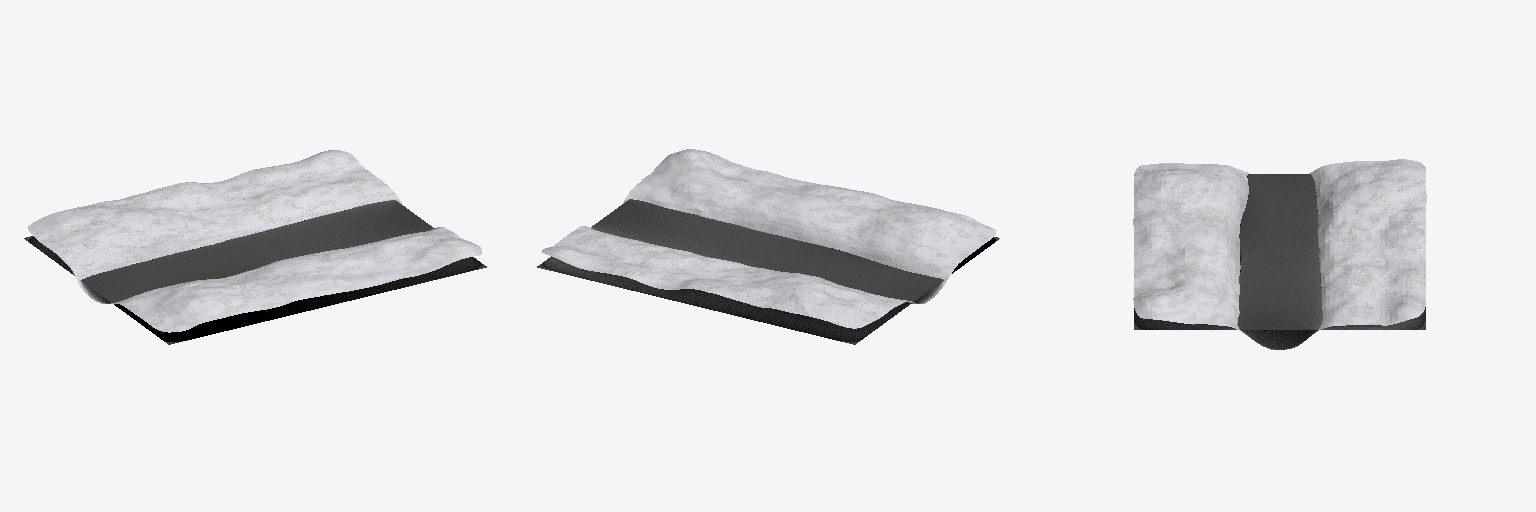
3 views of the same model, side by side, from view 1: azimuth 30°, elevation 25°; view 2: azimuth 150°, elevation 25°; view 3: azimuth 270°, elevation 25° (orthographic).
Parts seen in each view (by area): view 1: Plane_Plane.001; view 2: Plane_Plane.001; view 3: Plane_Plane.001.
Boxes of the visible parts, box(x1,y1,x2,y2) form: Plane_Plane.001: box(24, 150, 486, 344); Plane_Plane.001: box(537, 149, 999, 344); Plane_Plane.001: box(1133, 159, 1426, 349).
Bounding box in the file's own units: 20.68 × 3.25 × 16.06.
Materials: 2 (1 with a texture image).